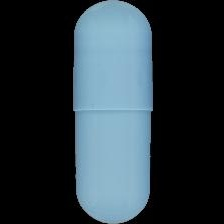0378-6896: (0, 0, 224, 224)
